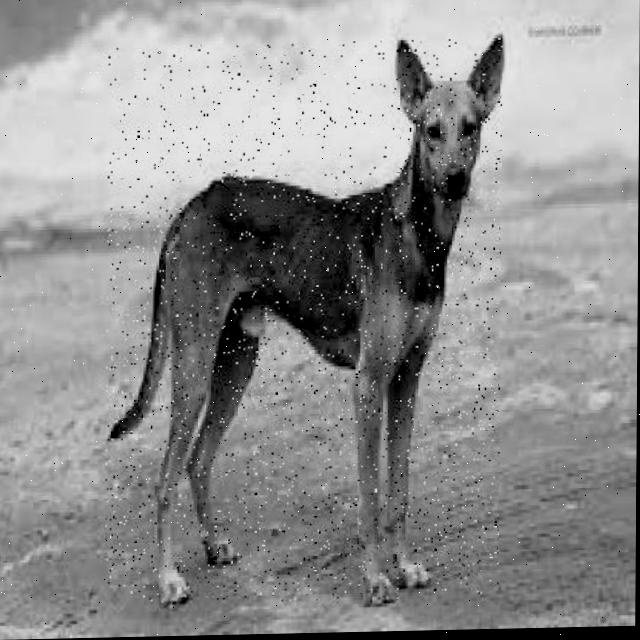Dog: (105, 37, 504, 607)
